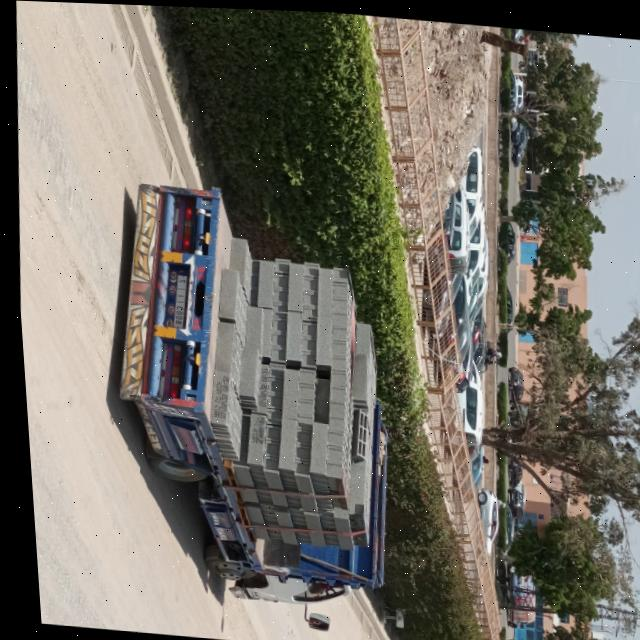bricks: (211, 239, 376, 573)
